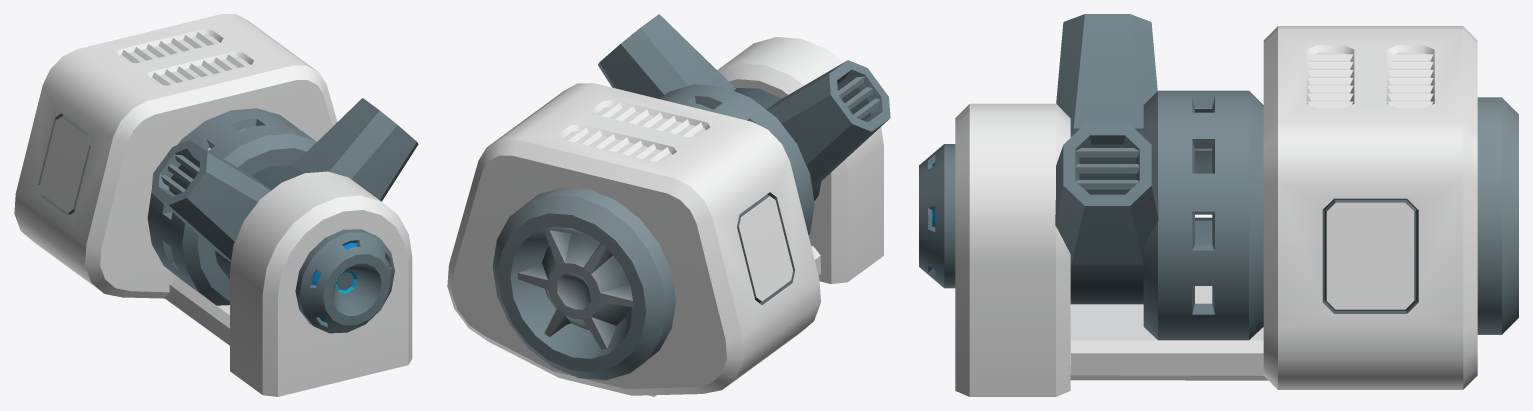
Rendered from Generator_005.fbx.
3 renders of one model, left to right at view 1: azimuth 30°, elevation 25°; view 2: azimuth 150°, elevation 25°; view 3: azimuth 270°, elevation 25°, orthographic. The views are drawn at different scales.
Visible parts, largest first — view 1: Generator_005; view 2: Generator_005; view 3: Generator_005.
Part boxes in pixels (left/top/right/bottom): Generator_005: left=14, top=14, right=418, bottom=396; Generator_005: left=447, top=14, right=890, bottom=396; Generator_005: left=919, top=14, right=1518, bottom=396.
Size of the model in its own units: 198 by 290 by 149.
